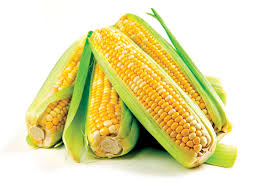milho: (42, 17, 223, 165)
